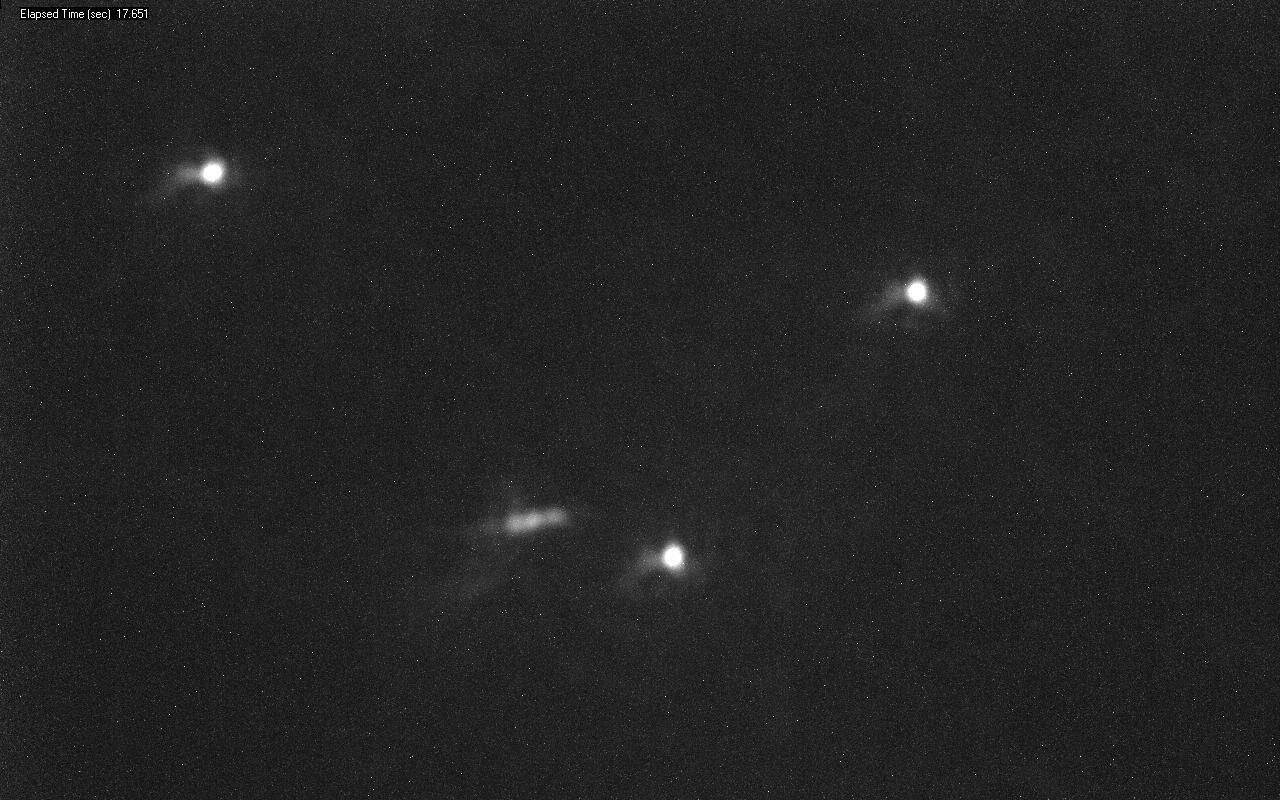Bead: (196, 160, 225, 186), (904, 280, 928, 306), (662, 544, 684, 570)
